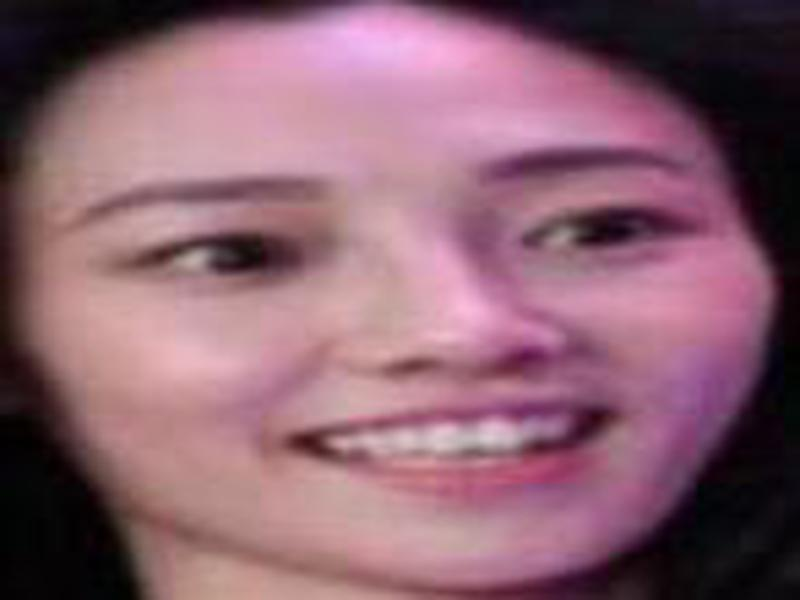without_mask: (31, 84, 770, 589)
